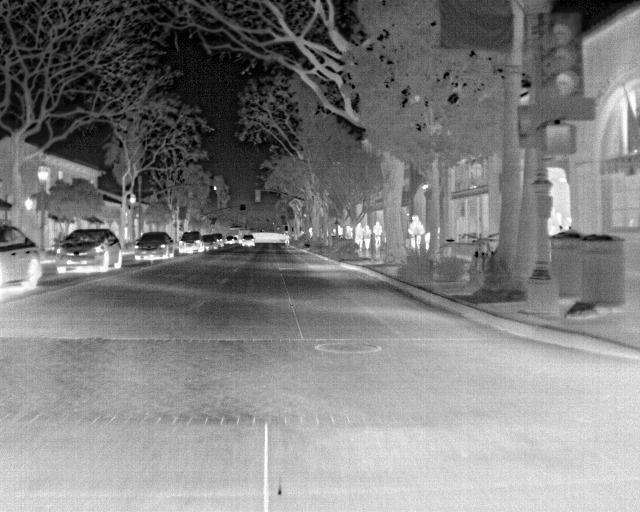bicycle: (53, 227, 121, 276), (0, 220, 44, 291), (132, 232, 175, 261), (178, 232, 200, 258), (201, 234, 219, 252), (238, 233, 257, 250), (208, 232, 224, 249)
empty: (409, 213, 424, 250), (371, 218, 385, 254), (351, 221, 364, 254), (363, 224, 375, 252), (342, 223, 354, 240)
